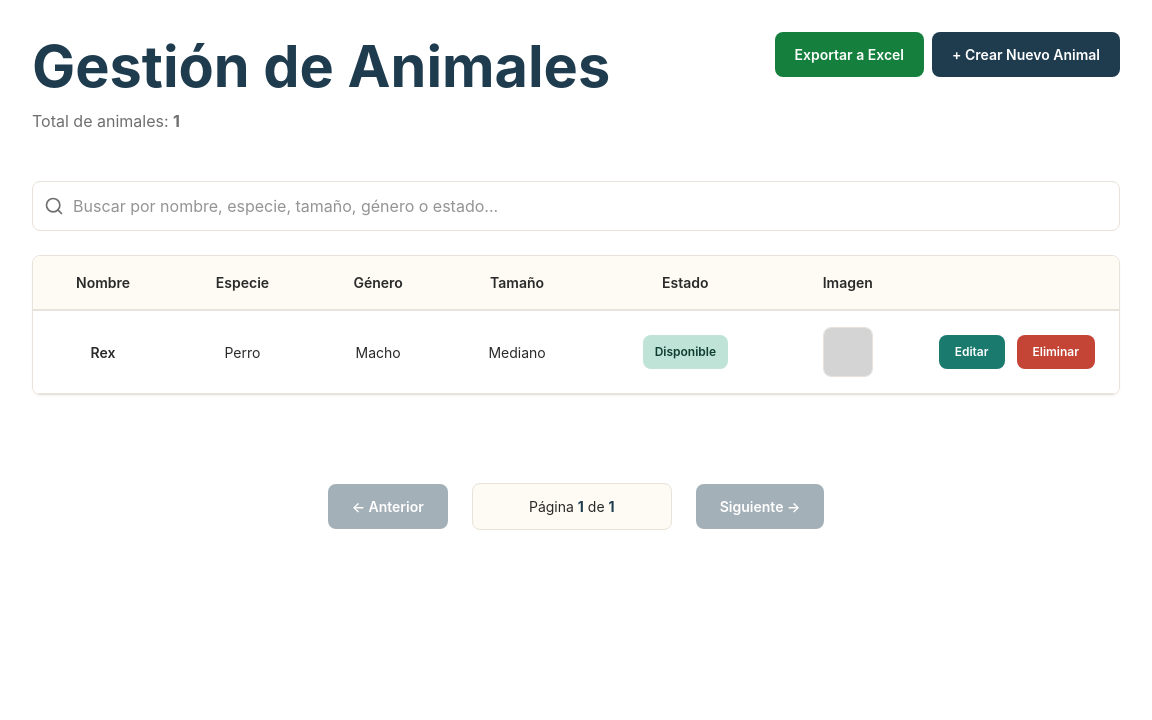
Scenario: delete modal › opens confirmation modal on delete click
The width and height of the screenshot is (1152, 720).
Click the button "Eliminar": (1056, 352) [1016,335,1095,369]
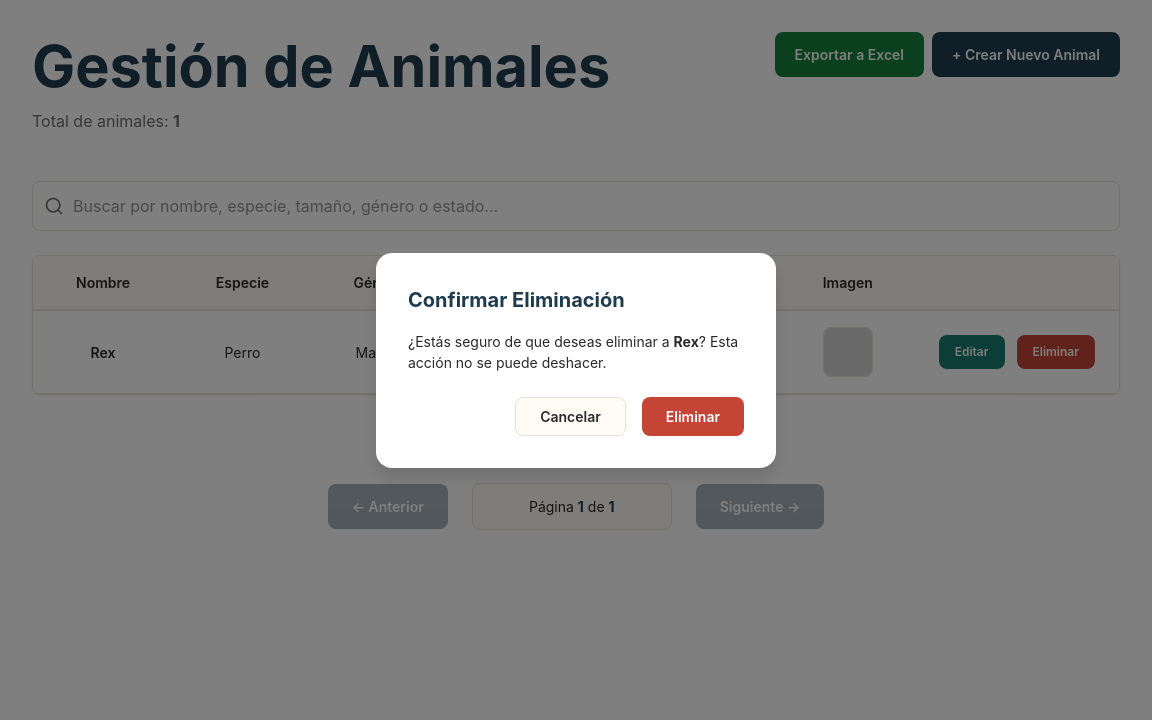
Result: the heading "Confirmar Eliminación" is shown at [408,288,625,312]
Result: the text "eliminar a" is shown at [408,332,674,350]
